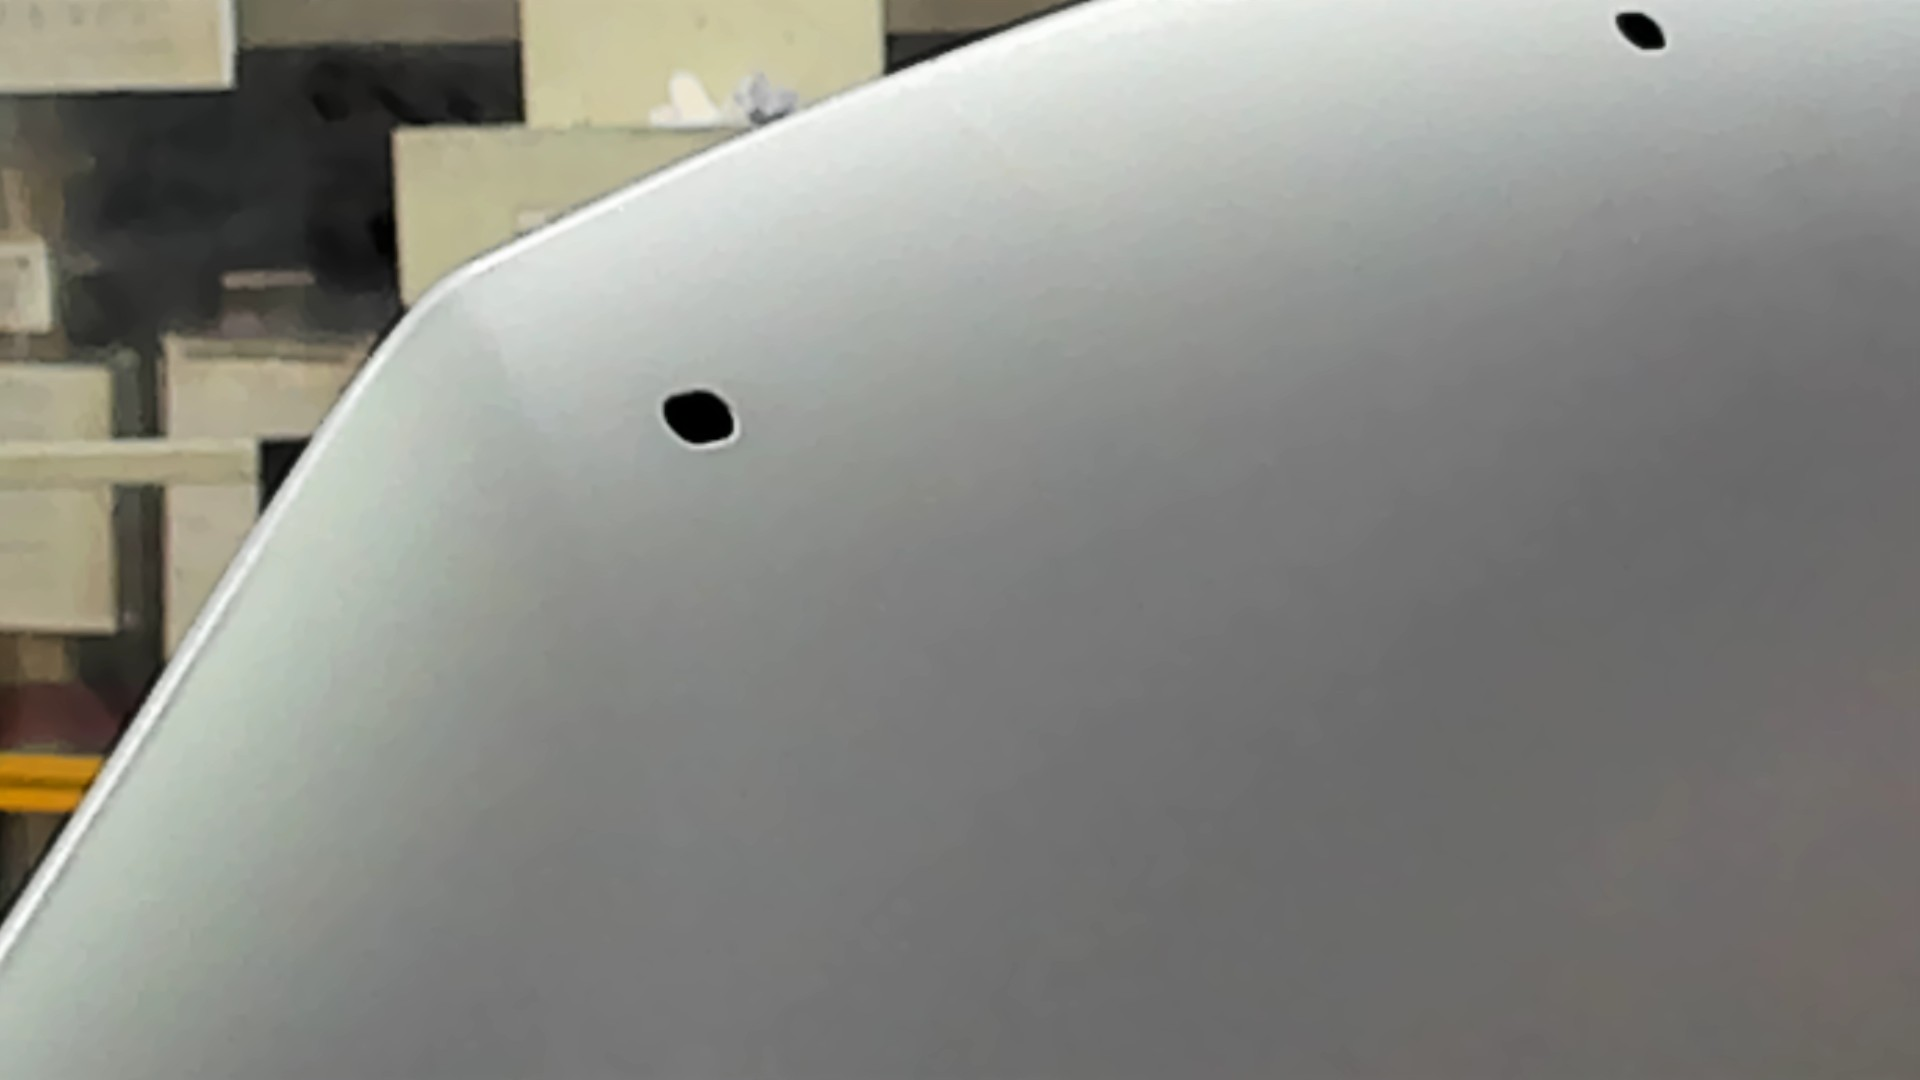amorfo: (661, 382, 738, 447), (1611, 9, 1673, 61)
